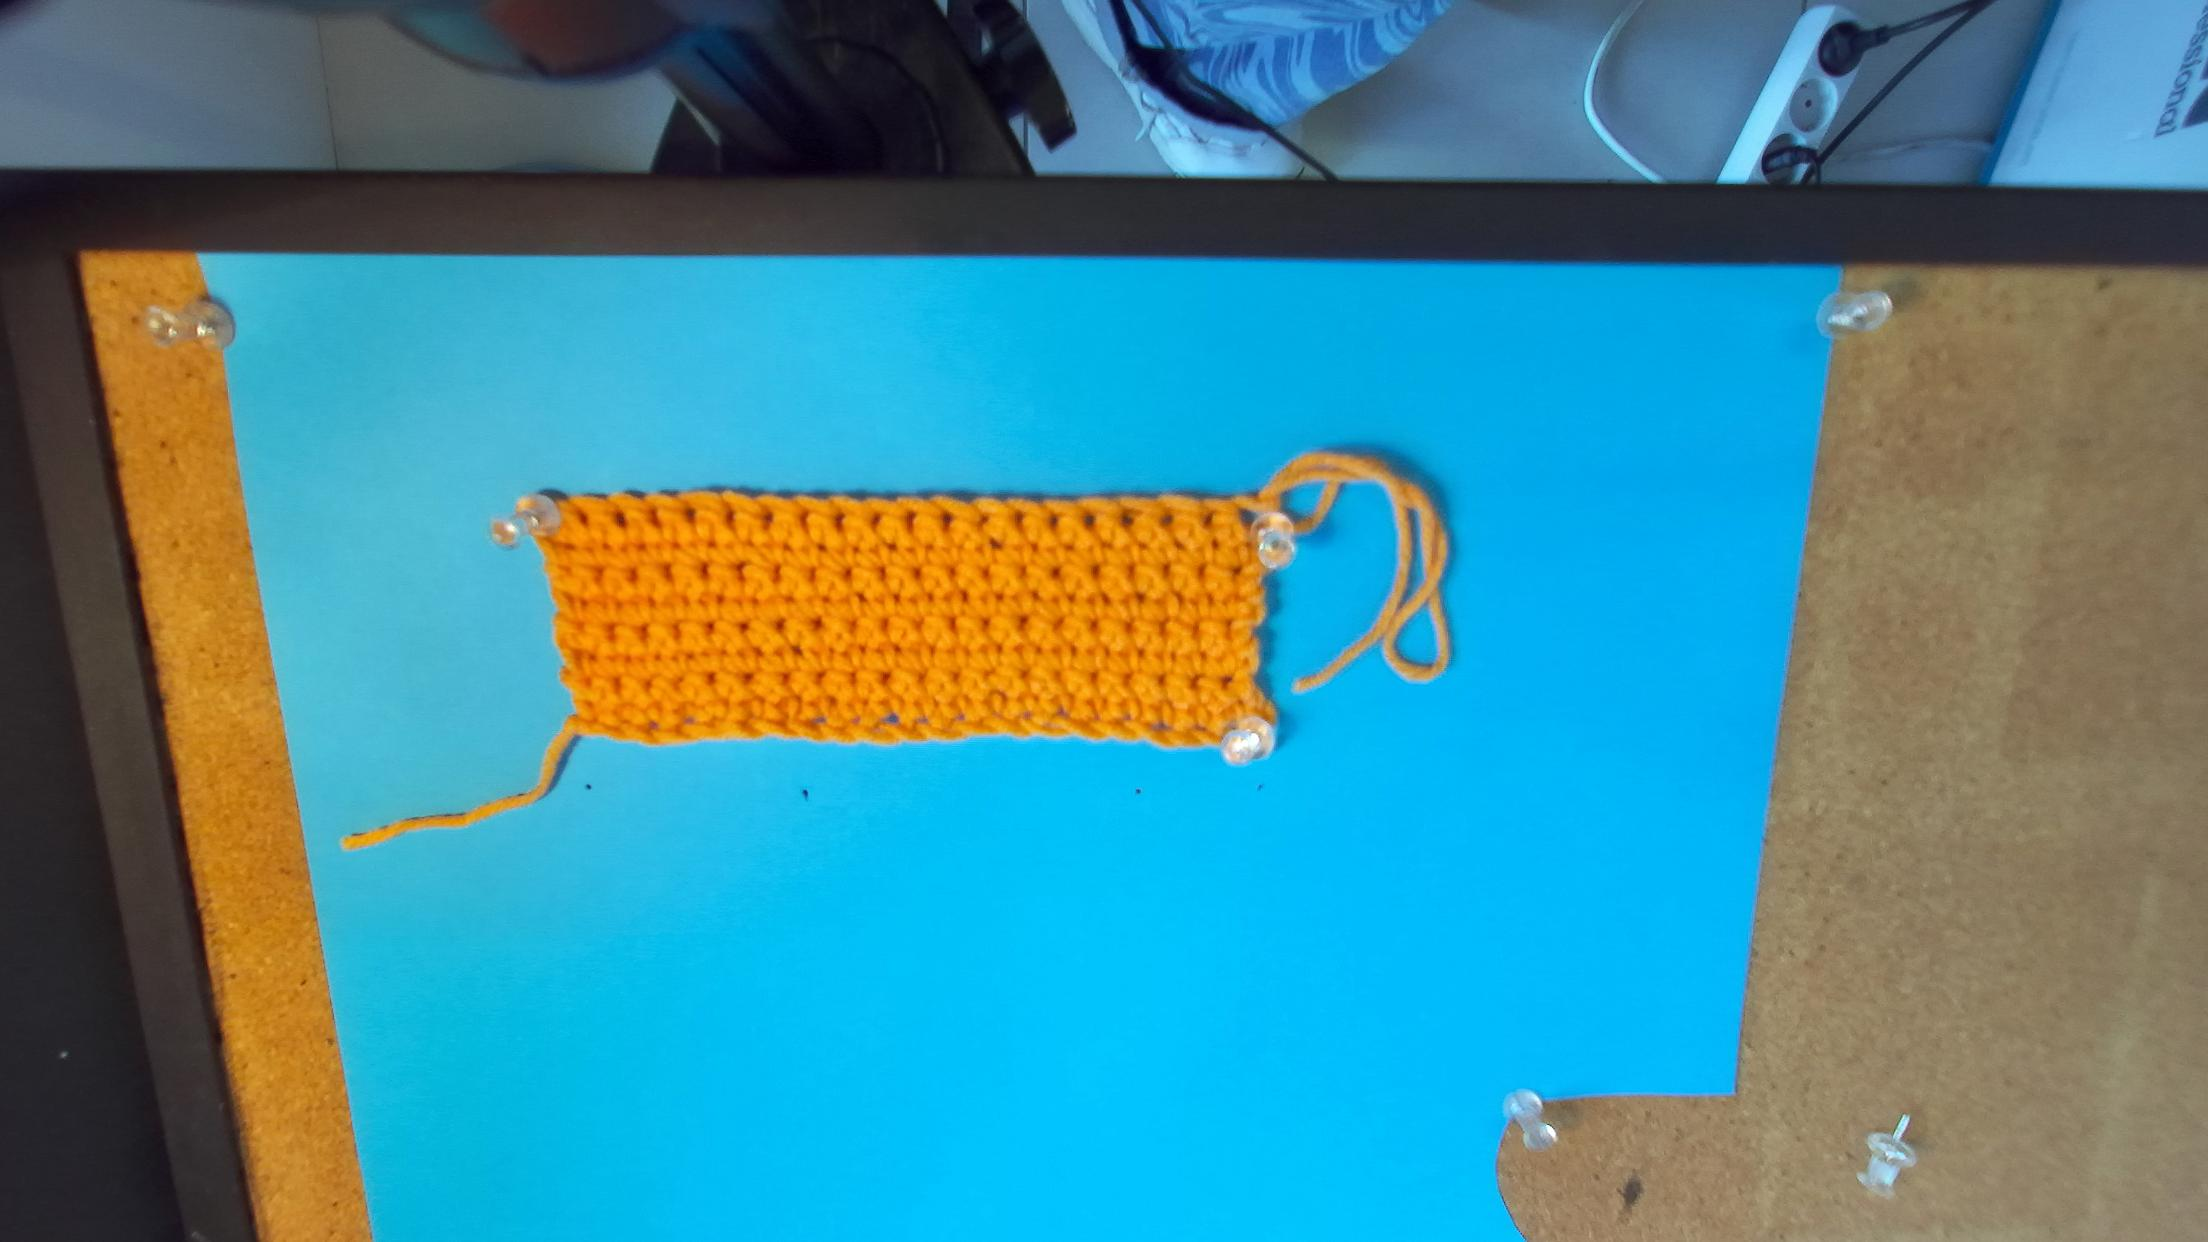hole: (645, 505, 663, 529), (611, 507, 626, 528), (682, 505, 698, 526), (833, 513, 846, 534), (796, 511, 810, 531), (869, 511, 883, 531), (578, 508, 590, 529), (723, 508, 735, 529), (904, 511, 917, 529), (1119, 511, 1134, 526), (943, 510, 954, 529), (1159, 513, 1174, 526), (761, 511, 773, 526), (1015, 508, 1027, 523), (1083, 513, 1095, 526), (1049, 513, 1060, 528), (978, 513, 990, 525), (1204, 511, 1213, 526)
swatch: (513, 491, 1278, 766)
